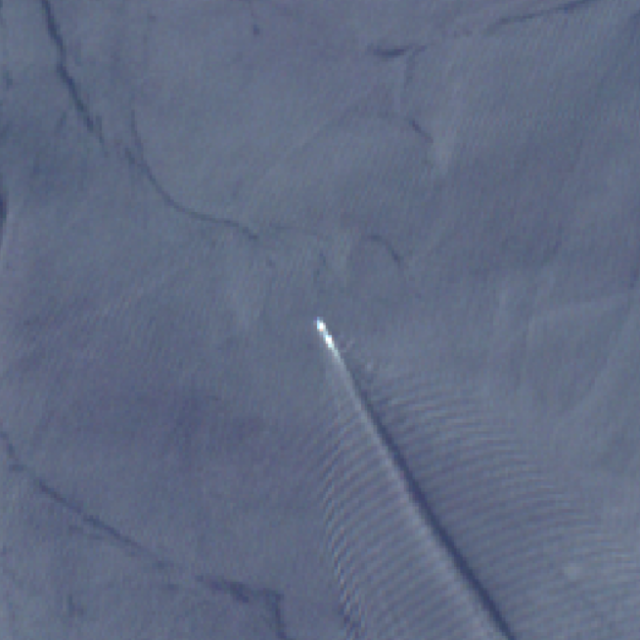wake: (222, 252, 530, 603)
